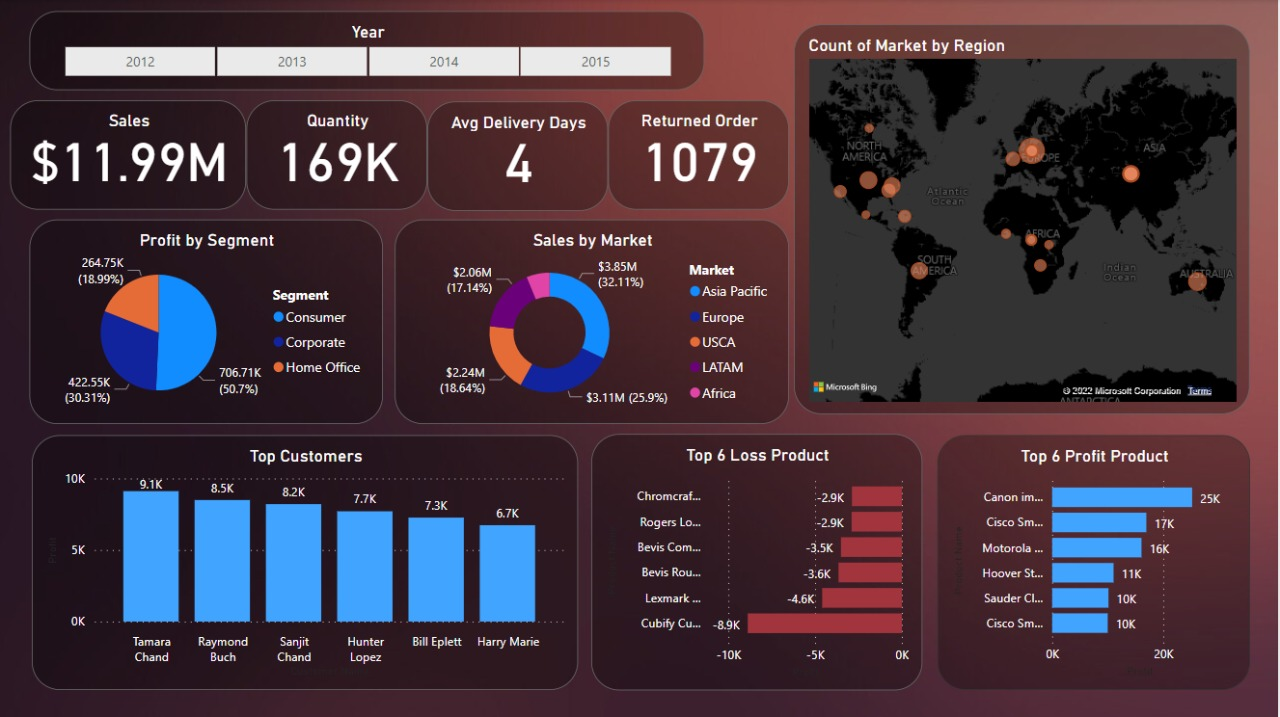

The page's visual inventory and layout, read from the dashboard file:
{"tool":"powerbi","page":{"name":"Page 1","canvas":[1280,720],"ordinal":0},"visuals":[{"type":"card","title":"Sales","fields":{"Values":["Orders.Sales"]},"box":[12.1,101.3,236.4,109.7],"z":0},{"type":"card","title":"Quantity","fields":{"Values":["Orders.Quantity"]},"box":[248.4,101.3,180.9,109.7],"z":1000},{"type":"card","title":"Avg Delivery Days","fields":{"Values":["Orders.Delivery Days"]},"box":[429.3,102.5,180.9,109.7],"z":2000},{"type":"slicer","title":"Year","fields":{"Values":["Orders.Year"]},"box":[31.4,12.1,675.4,79.6],"z":3000},{"type":"card","title":"Returned Order","fields":{"Values":["Returns.Returned Orders"]},"box":[610.3,101.3,180.9,109.7],"z":4000},{"type":"map","fields":{"Category":["Orders.Region"],"Size":["Orders.Market"]},"box":[796,25.3,455.9,390.8],"z":5000},{"type":"clusteredBarChart","title":"Top 6 Profit Product","fields":{"Category":["Orders.Product Name"],"Y":["Orders.Profit"]},"box":[939.4,436.7,313.1,255.5],"z":6000},{"type":"clusteredBarChart","title":"Top 6 Loss Product","fields":{"Category":["Orders.Product Name"],"Y":["Orders.Profit"]},"box":[593.3,435.4,331,256.8],"z":7000},{"type":"pieChart","fields":{"Category":["Orders.Segment"],"Y":["Orders.Profit"]},"box":[31.4,220.7,353.4,205],"z":7001},{"type":"donutChart","fields":{"Category":["Orders.Market"],"Y":["Orders.Sales"]},"box":[396.8,220.7,394.4,205],"z":7002},{"type":"columnChart","title":"Top Customers","fields":{"Category":["Orders.Customer Name"],"Y":["Orders.Profit"]},"box":[34.3,436.7,546.6,255.5],"z":7003}]}

Visuals, with their boxes in screenshot pixels (x1, y1, x2, y2), scaled from the page's 1280x720 canvas onto the 1280x717 screenshot:
"Sales" card: 12,101,248,210
"Quantity" card: 248,101,429,210
"Avg Delivery Days" card: 429,102,610,211
"Year" slicer: 31,12,707,91
"Returned Order" card: 610,101,791,210
map - Orders.Region x Orders.Market: 796,25,1252,414
"Top 6 Profit Product" clusteredBarChart: 939,435,1252,689
"Top 6 Loss Product" clusteredBarChart: 593,434,924,689
pieChart - Orders.Segment x Orders.Profit: 31,220,385,424
donutChart - Orders.Market x Orders.Sales: 397,220,791,424
"Top Customers" columnChart: 34,435,581,689
